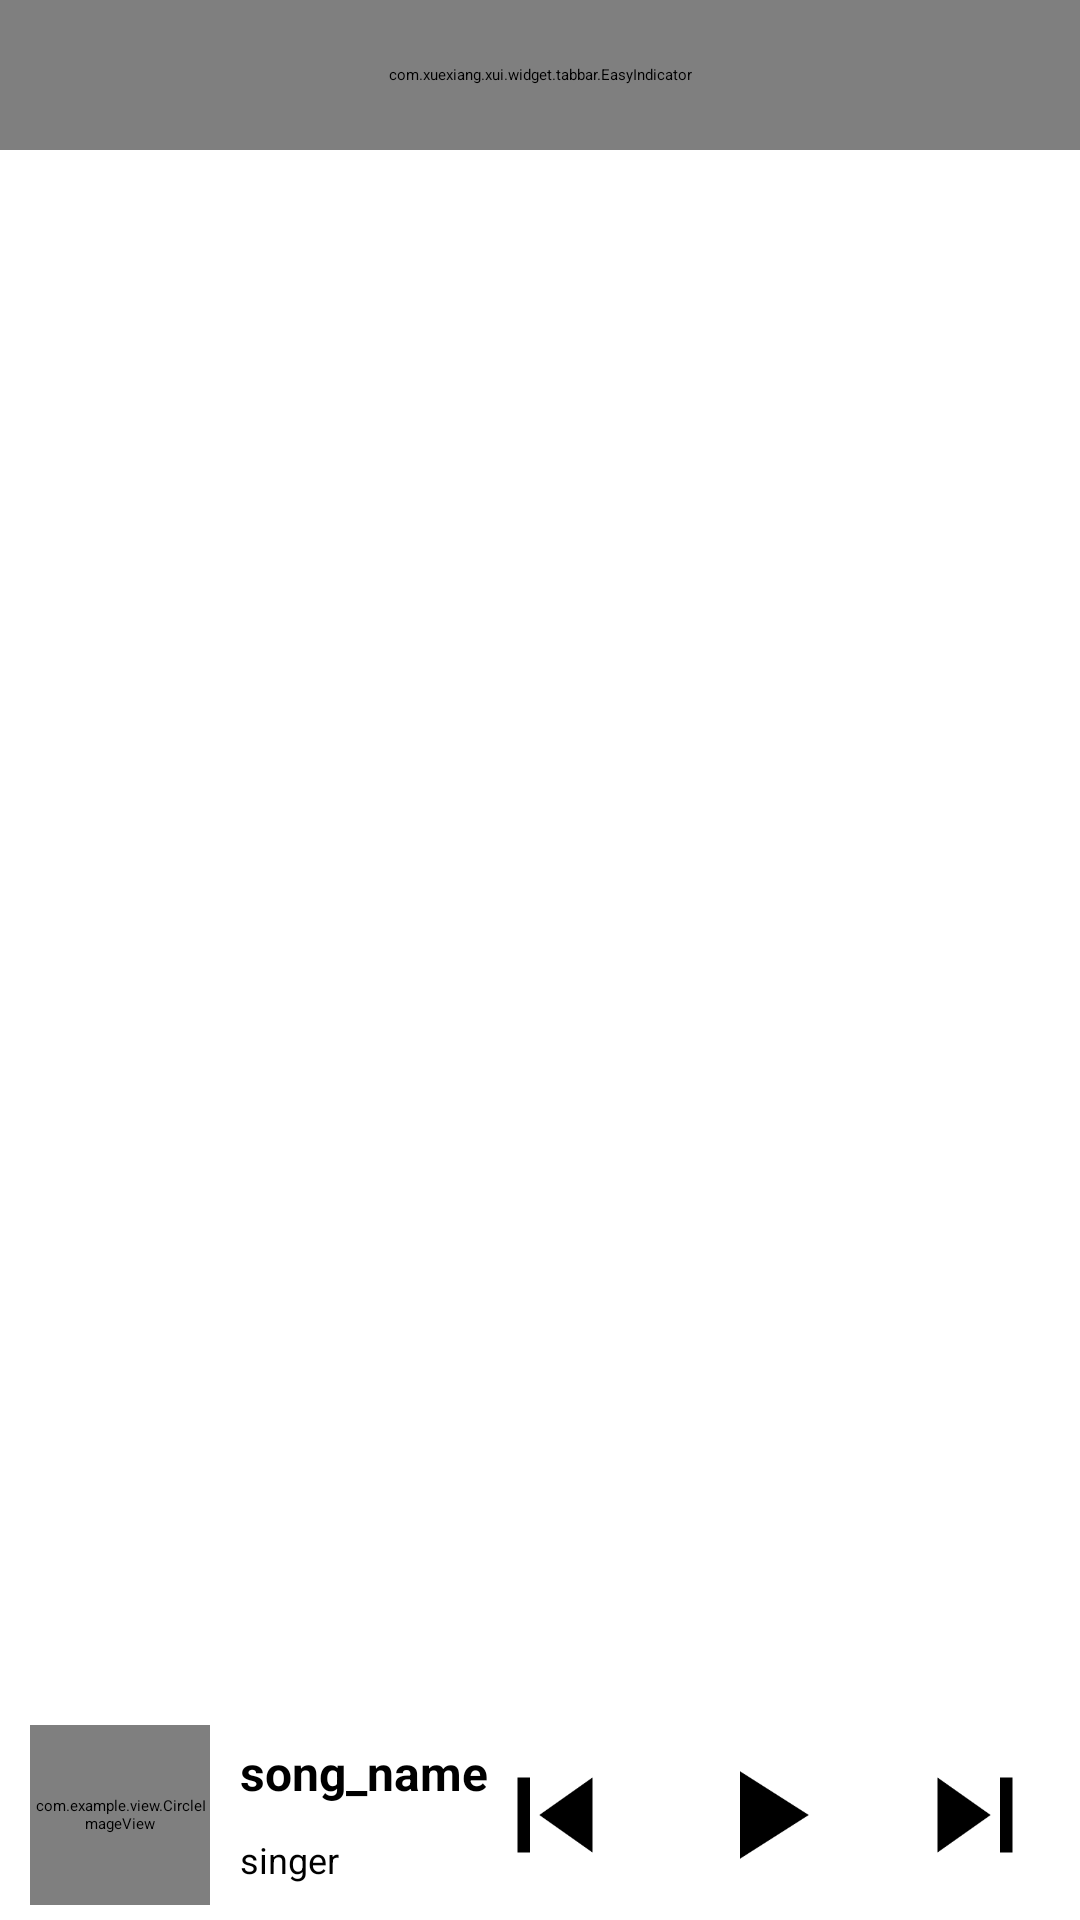

Locate icon controls on the screen. Image size 1080 × 1920, boxes as Rect(x1, y1, x2, y2).
next: Rect(937, 1777, 1013, 1853)
play: Rect(740, 1771, 809, 1859)
prev: Rect(517, 1777, 593, 1853)
